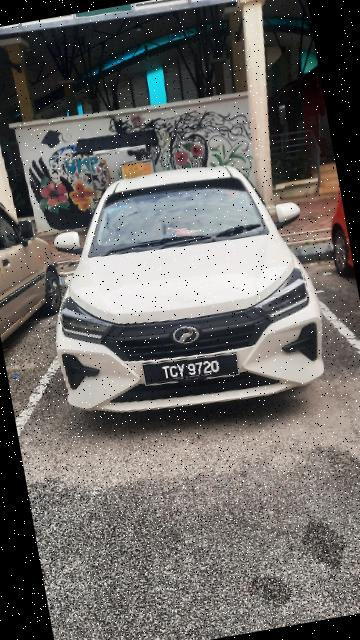License_Plate: (138, 344, 248, 397)
car: (15, 131, 346, 447)
